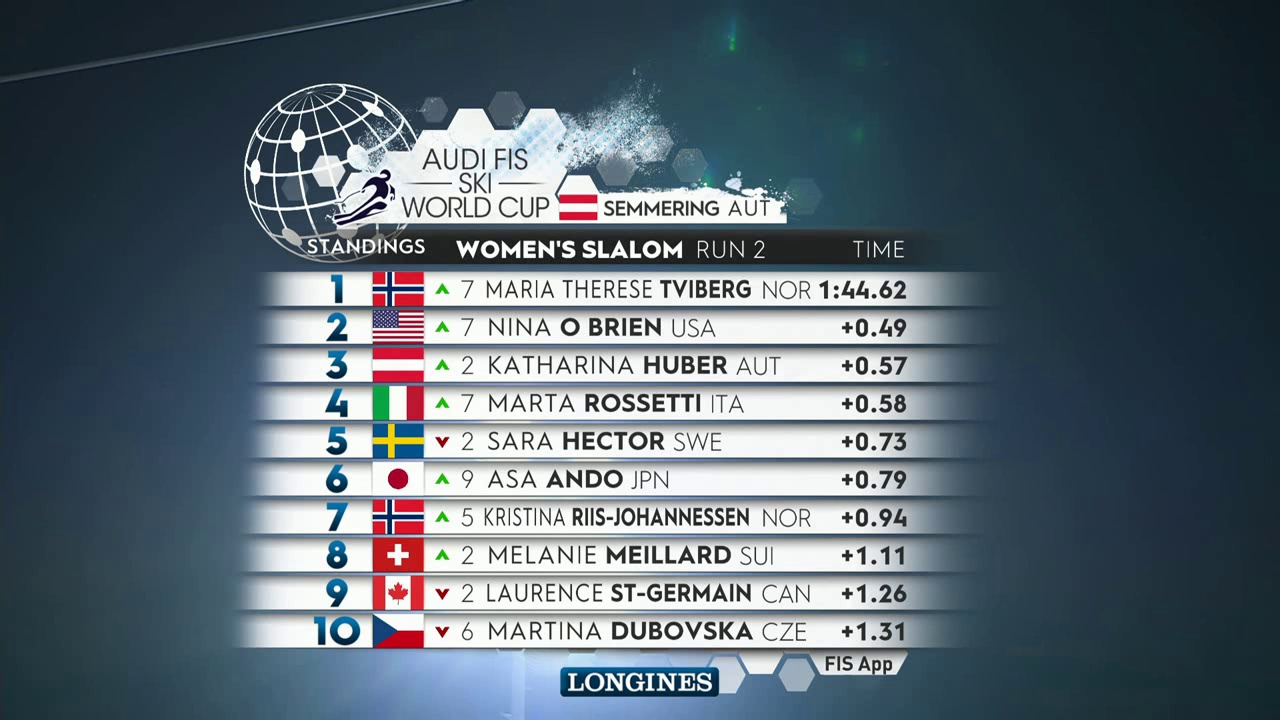longines: (550, 668, 724, 700)
